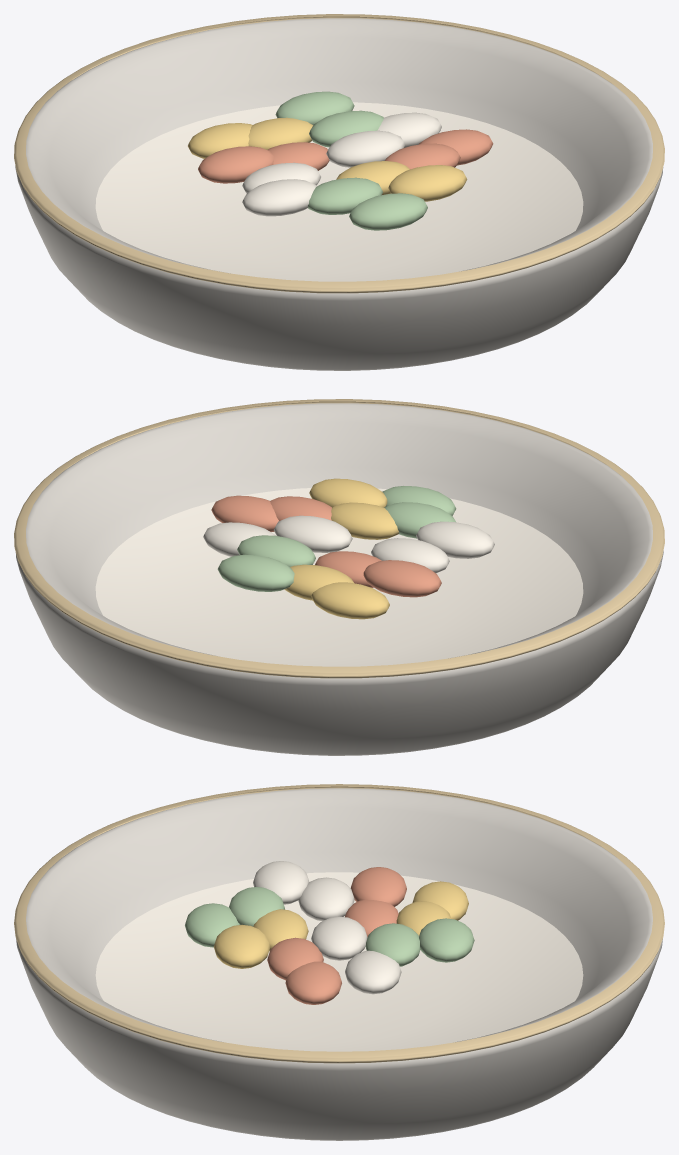
The model's file is bang-bang-table.glb.
The picture shows the model from 3 angles, top to bottom: view 1: azimuth 30°, elevation 25°; view 2: azimuth 150°, elevation 25°; view 3: azimuth 270°, elevation 25°; orthographic projection.
Parts seen in each view (by area): view 1: Hand-thrown shallow bowl, Sauce and food bed, Fine bowl rim, Rice and veg.015, Rice and veg.012, Rice and veg.010, Rice and veg, Rice and veg.009, Rice and veg.007, Rice and veg.011, Rice and veg.003, Rice and veg.006 (+7 smaller); view 2: Hand-thrown shallow bowl, Sauce and food bed, Fine bowl rim, Rice and veg.009, Rice and veg.011, Rice and veg.014, Rice and veg.012, Rice and veg, Rice and veg.002, Rice and veg.004, Rice and veg.013, Rice and veg.003 (+7 smaller); view 3: Hand-thrown shallow bowl, Sauce and food bed, Fine bowl rim, Rice and veg.010, Rice and veg.011, Rice and veg, Rice and veg.008, Rice and veg.013, Rice and veg.004, Rice and veg.009, Rice and veg.003, Rice and veg.012 (+7 smaller).
Part boxes in pixels (x1,y1,x2,y2): Hand-thrown shallow bowl: (15, 18, 663, 370); Sauce and food bed: (95, 102, 583, 281); Fine bowl rim: (14, 14, 664, 293); Rice and veg.015: (349, 193, 427, 230); Rice and veg.012: (242, 179, 316, 216); Rice and veg.010: (388, 165, 467, 201); Rice and veg: (326, 130, 404, 167); Rice and veg.009: (198, 146, 273, 183); Rice and veg.007: (308, 177, 382, 214); Rice and veg.011: (275, 91, 354, 124); Rice and veg.003: (309, 110, 383, 147); Rice and veg.006: (248, 117, 313, 149); Hand-thrown shallow bowl: (15, 403, 663, 755); Sauce and food bed: (95, 488, 583, 666); Fine bowl rim: (14, 399, 664, 678); Rice and veg.009: (363, 560, 441, 597); Rice and veg.011: (217, 554, 294, 591); Rice and veg.014: (311, 582, 389, 619); Rice and veg.012: (416, 521, 494, 558); Rice and veg: (274, 515, 352, 552); Rice and veg.002: (331, 502, 399, 539); Rice and veg.004: (371, 538, 449, 572); Rice and veg.013: (211, 495, 278, 531); Rice and veg.003: (237, 535, 315, 566); Hand-thrown shallow bowl: (16, 788, 662, 1140); Sauce and food bed: (95, 872, 583, 1051); Fine bowl rim: (14, 784, 664, 1063); Rice and veg.010: (214, 924, 270, 968); Rice and veg.011: (419, 918, 474, 962); Rice and veg: (311, 916, 367, 960); Rice and veg.008: (345, 950, 401, 994); Rice and veg.013: (285, 961, 341, 1004); Rice and veg.004: (298, 877, 354, 921); Rice and veg.009: (350, 867, 406, 906); Rice and veg.003: (365, 923, 420, 966); Rice and veg.012: (253, 861, 309, 904).
Bounding box in the file's own units: 1.1 × 0.2476 × 1.1.
